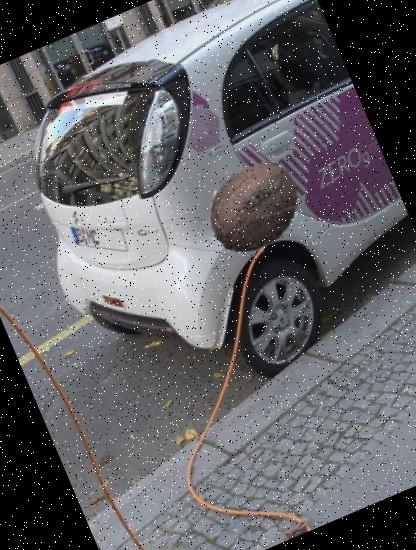Cocos: (187, 142, 318, 272)
